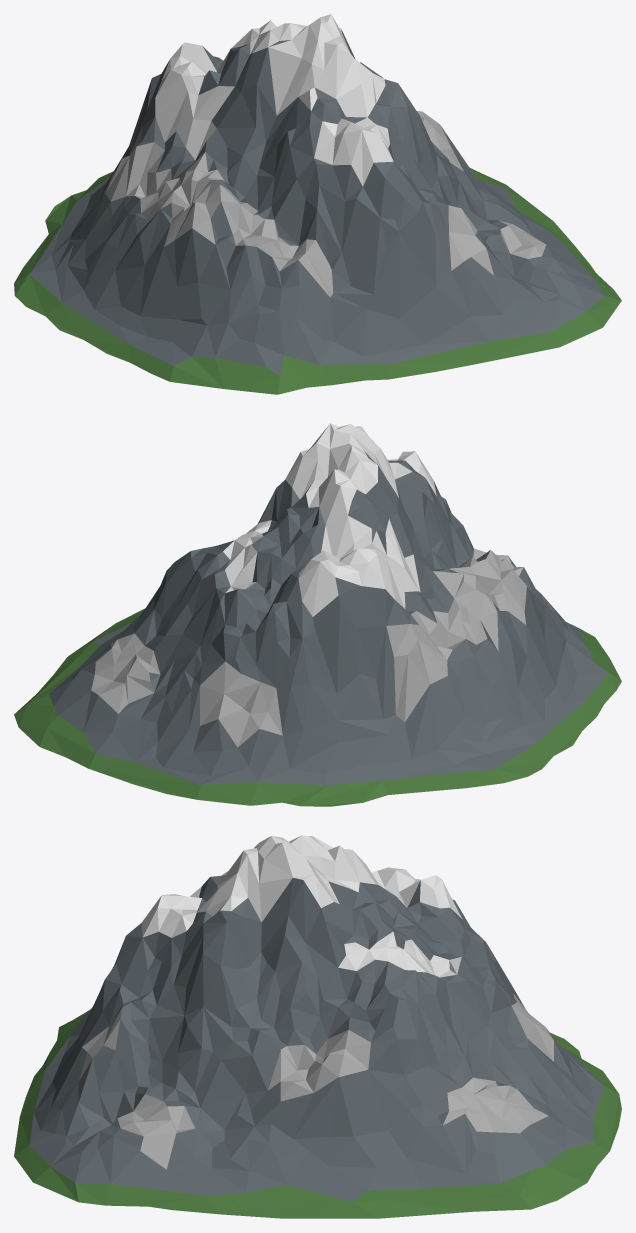
File: SM_Env_Mounting_01.fbx
The picture shows the model from 3 angles, top to bottom: view 1: azimuth 30°, elevation 25°; view 2: azimuth 150°, elevation 25°; view 3: azimuth 270°, elevation 25°; orthographic projection. The views are drawn at different scales.
Parts seen in each view (by area): view 1: SM_Env_Mounting_01; view 2: SM_Env_Mounting_01; view 3: SM_Env_Mounting_01.
Boxes of the visible parts, x1,y1,x2,y2 form: SM_Env_Mounting_01: (14,14,621,394); SM_Env_Mounting_01: (14,423,621,806); SM_Env_Mounting_01: (14,835,621,1218).
Bounding box in the file's own units: 1572 × 1675 × 808.
